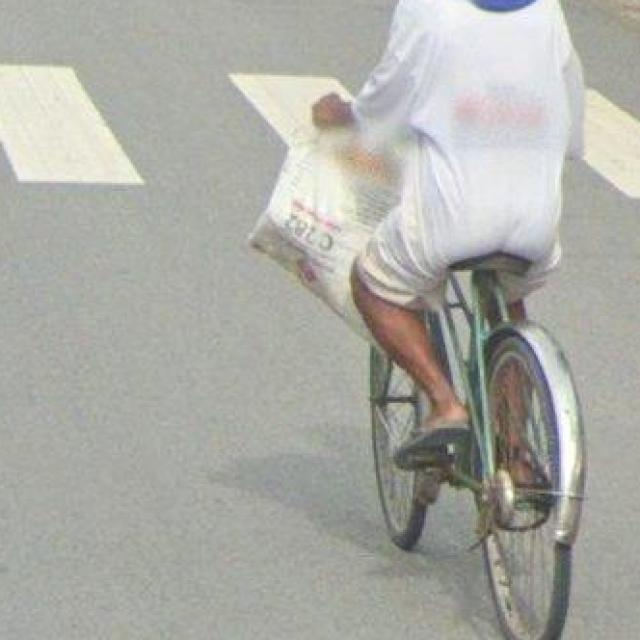bicycle: (268, 93, 615, 637)
